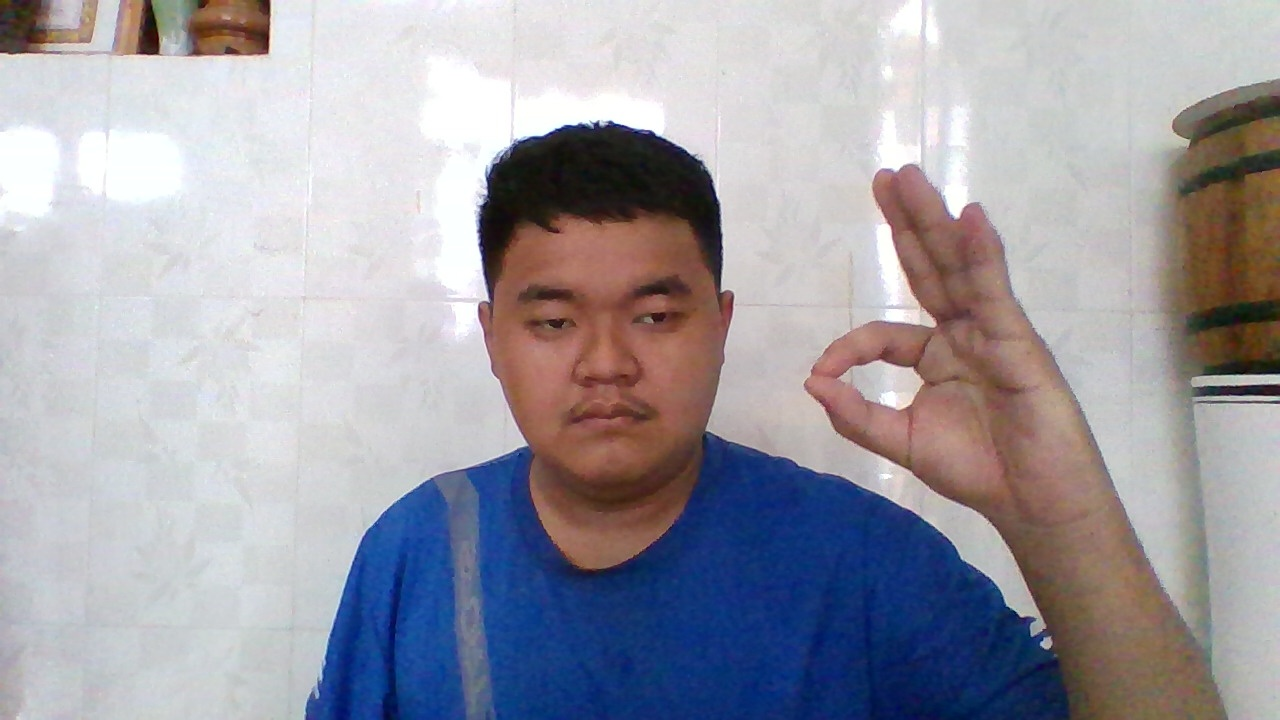T: (805, 160, 1052, 527)
